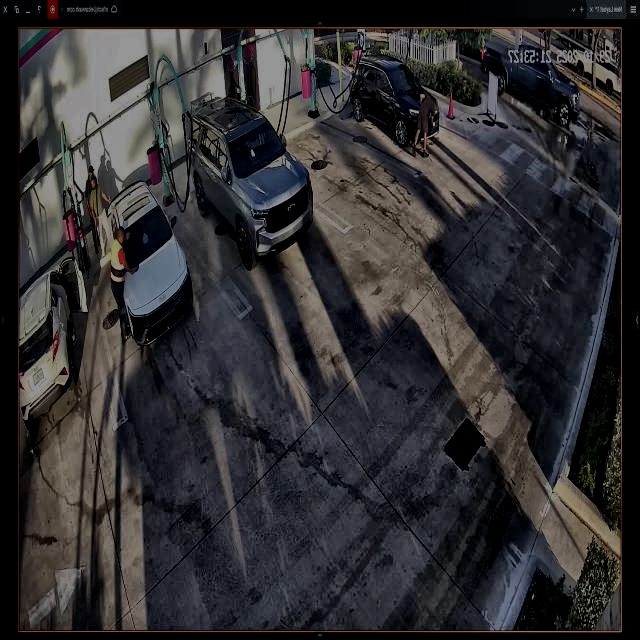Car: (190, 96, 315, 265), (109, 182, 191, 339)
